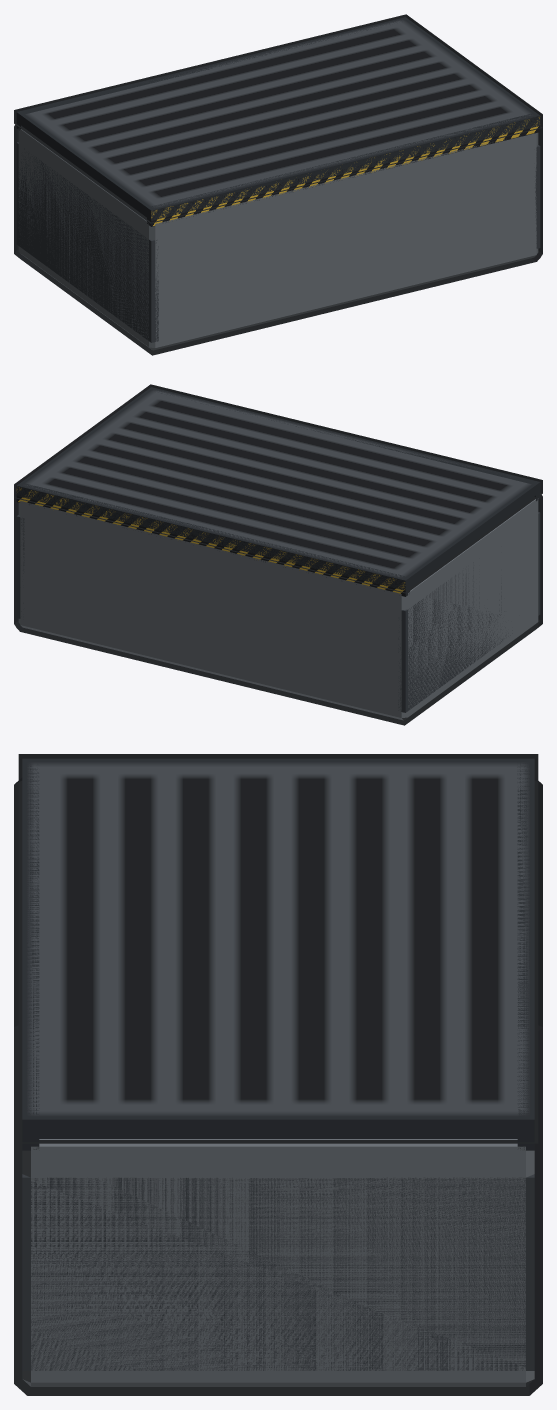
Rendered from SM_StairStep_1.glb.
3 views of the same model, one above another, from view 1: azimuth 30°, elevation 25°; view 2: azimuth 150°, elevation 25°; view 3: azimuth 270°, elevation 25° (orthographic). The views are drawn at different scales.
Visible parts, largest first — view 1: SM_StairStep_1, SM_StairStep_1_Outline; view 2: SM_StairStep_1, SM_StairStep_1_Outline; view 3: SM_StairStep_1, SM_StairStep_1_Outline.
Boxes of the visible parts, x1,y1,x2,y2 form: SM_StairStep_1: (16, 17, 540, 350); SM_StairStep_1_Outline: (14, 14, 542, 355); SM_StairStep_1: (16, 387, 540, 720); SM_StairStep_1_Outline: (14, 384, 542, 725); SM_StairStep_1: (22, 758, 534, 1386); SM_StairStep_1_Outline: (14, 754, 542, 1395).
Bounding box in the file's own units: 2.04 × 0.728 × 1.24.
Materials: 2 (1 with a texture image).
